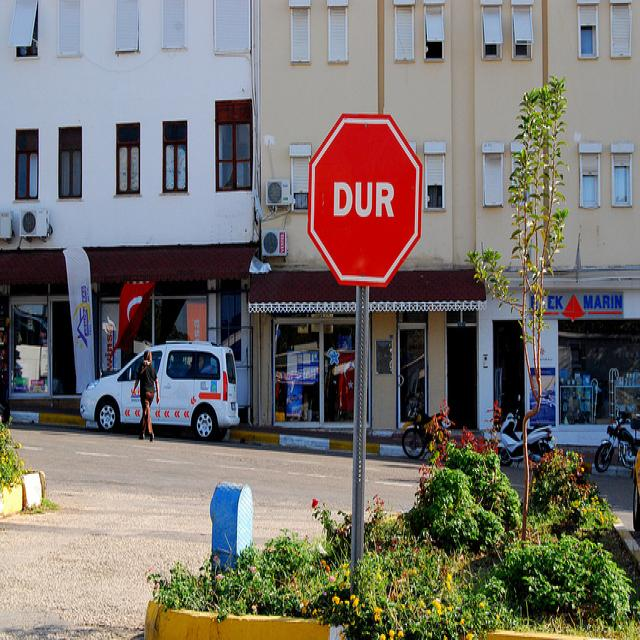motor: (473, 393, 556, 468), (399, 399, 472, 459), (595, 419, 639, 472)
